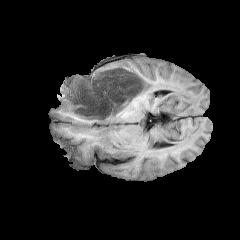glioma: (62, 65, 153, 124)
